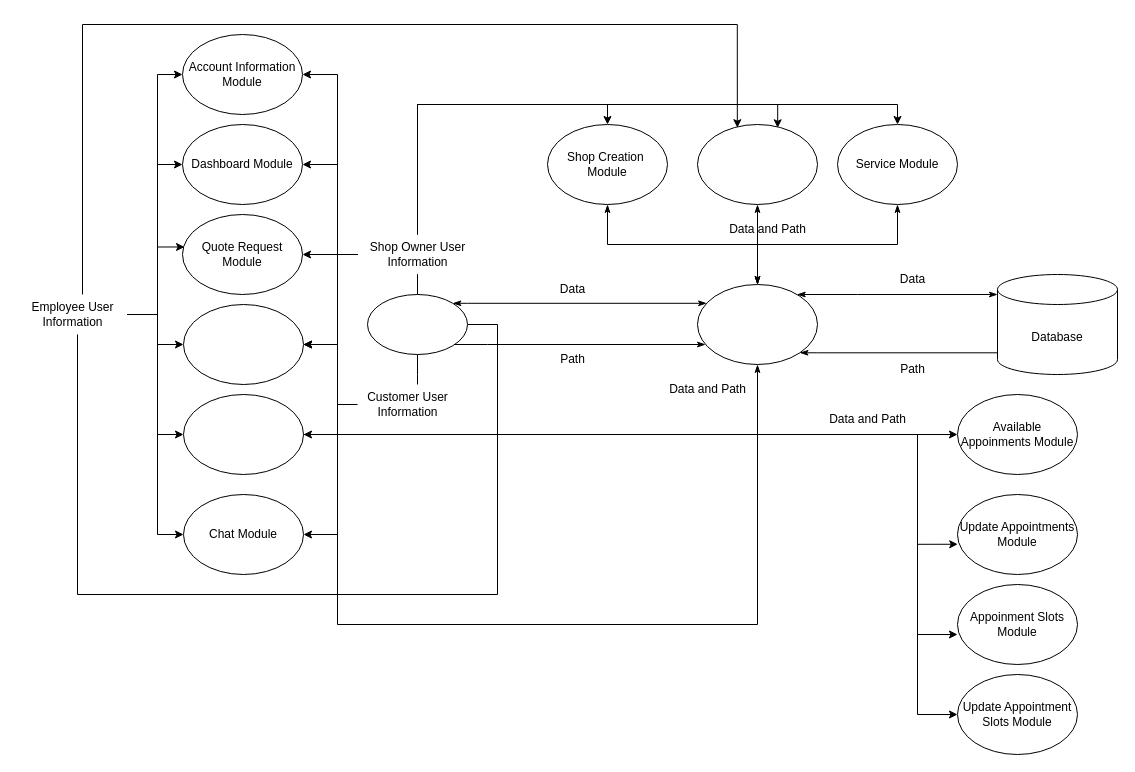
The diagram is 1135 pixels wide and 772 high, and some of its shapes have lost their labels. The shapes that lost their labels are listed below. From the top down, each one's box as (x1, y1, x2, y2) in pixels, then its label:
(696, 124, 818, 204): Work Order Module
(182, 304, 304, 384): Quote Module
(366, 294, 468, 354): Authentication Module
(696, 284, 818, 364): Database Module
(182, 394, 304, 474): Appointment Module
